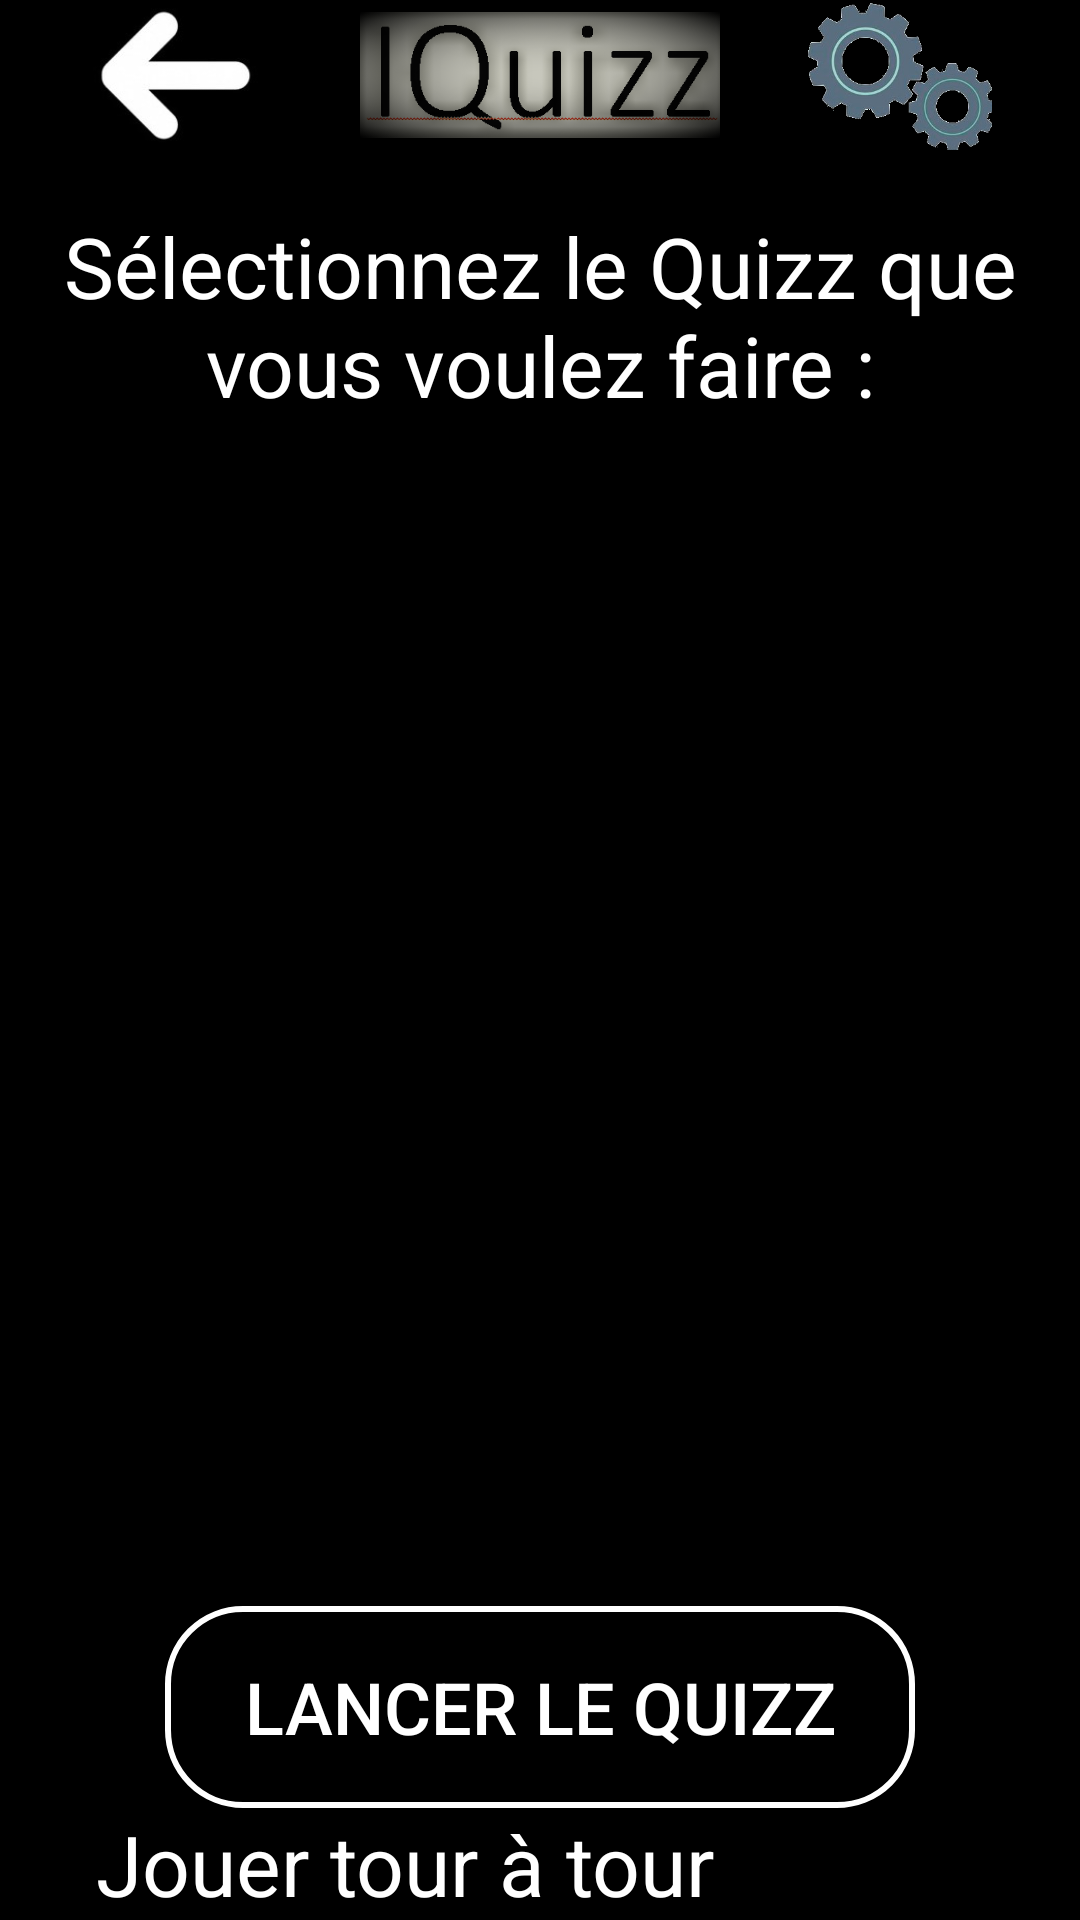

Screen size 1080 × 1920. Icon name, then its center in pixels as [x,y]:
engrenages: [900,76]
fleche retour: [176,75]
